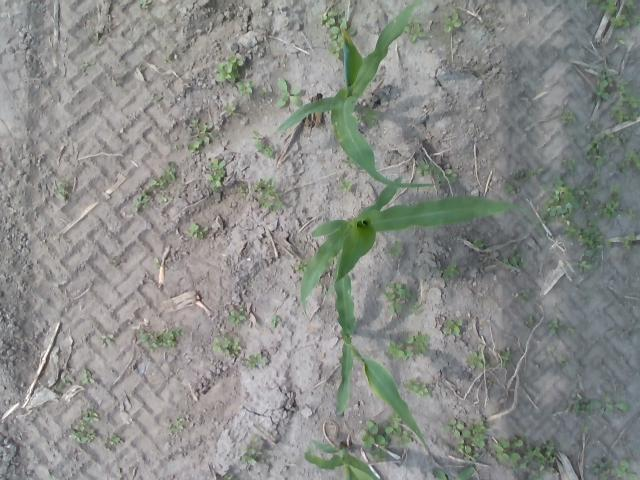Maize: (300, 177, 544, 316), (276, 0, 436, 188), (332, 248, 431, 453), (306, 440, 380, 480)
Weeds: (492, 434, 556, 480), (536, 172, 580, 227), (317, 5, 356, 58), (446, 416, 488, 463), (380, 280, 422, 317), (562, 218, 604, 252), (386, 330, 431, 360), (609, 81, 640, 124), (358, 420, 388, 464), (582, 129, 614, 168), (589, 459, 639, 480), (384, 412, 414, 447), (70, 409, 99, 444), (254, 178, 284, 211), (138, 328, 180, 351), (188, 118, 214, 152), (204, 156, 228, 190), (597, 186, 622, 218), (580, 176, 601, 214), (591, 66, 614, 100), (276, 78, 302, 108), (215, 54, 242, 82), (148, 162, 176, 188), (252, 130, 276, 160), (403, 13, 426, 44), (434, 464, 476, 480), (596, 393, 631, 412), (240, 434, 262, 464), (212, 334, 242, 356), (404, 378, 432, 398), (502, 244, 524, 268), (441, 7, 462, 32), (618, 149, 640, 172), (356, 104, 378, 126), (586, 0, 619, 14), (572, 394, 594, 414), (436, 262, 460, 280), (433, 166, 458, 183), (133, 190, 151, 213), (617, 232, 637, 251), (466, 350, 484, 371), (187, 222, 208, 240), (516, 168, 542, 182), (236, 80, 254, 100), (608, 12, 630, 28), (386, 240, 404, 259), (569, 258, 593, 272), (560, 108, 578, 126), (560, 156, 579, 173), (414, 160, 434, 176), (78, 369, 95, 387), (443, 318, 462, 334), (246, 354, 266, 369), (547, 318, 563, 336), (226, 308, 245, 322), (100, 332, 116, 348), (168, 417, 184, 432), (622, 0, 638, 15), (500, 348, 512, 367), (614, 132, 631, 145), (223, 102, 237, 117), (294, 259, 308, 274), (504, 182, 518, 197), (519, 288, 532, 304), (57, 182, 68, 200), (56, 376, 70, 390), (268, 314, 282, 328), (338, 178, 352, 192), (344, 155, 356, 169), (558, 353, 568, 368), (545, 346, 557, 358), (625, 208, 637, 220), (238, 184, 248, 198), (472, 237, 484, 248), (108, 435, 121, 445), (255, 86, 268, 96), (616, 34, 626, 46), (565, 326, 577, 335), (137, 0, 152, 7), (154, 94, 170, 100), (152, 256, 160, 268), (633, 13, 640, 26), (604, 237, 612, 248), (581, 424, 589, 434), (526, 314, 534, 324), (222, 475, 234, 480), (172, 145, 178, 152)
